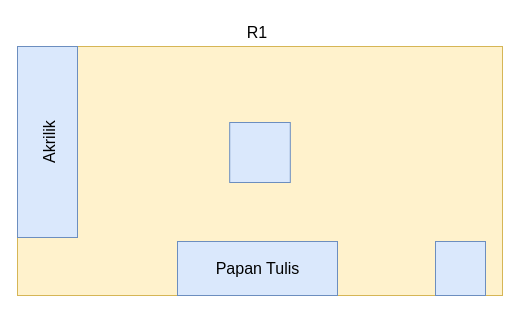
Some shapes in this 520 by 313 pixel diagram are drawn without their labels. The centre of each missing label's shape, as x and y in pixels:
Frame: (x=259, y=152)
Pintu Masuk: (x=460, y=268)
